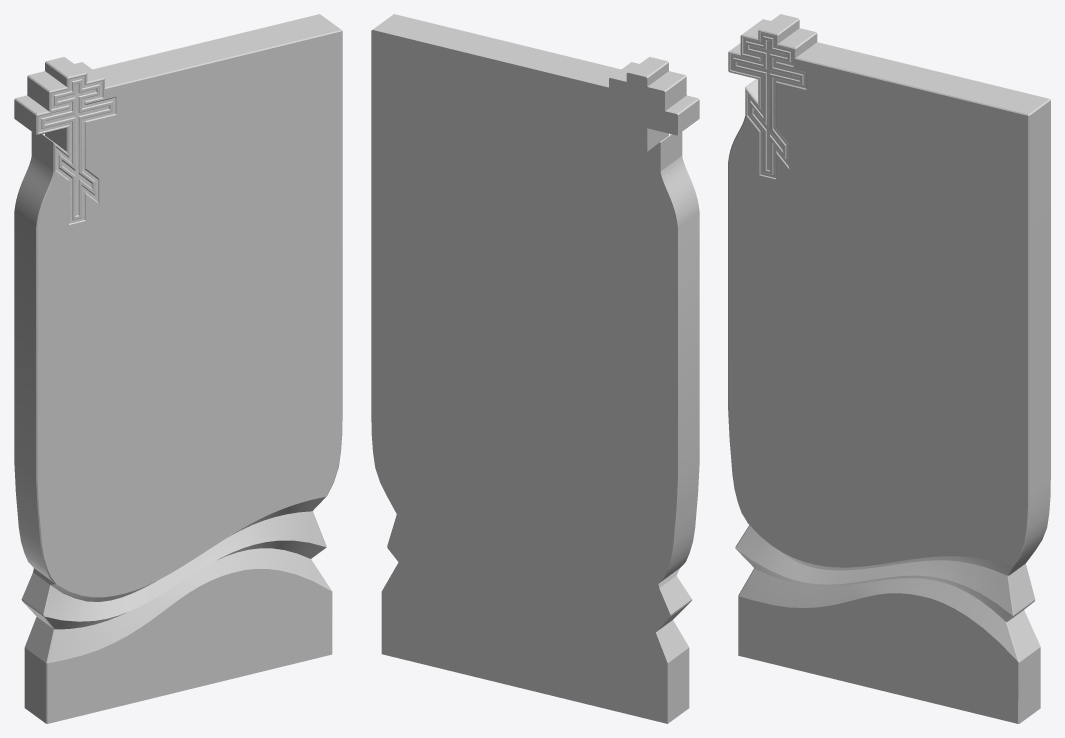
Rendered from cnd7314ef28c_tkf.glb.
3 renders of one model, left to right at view 1: azimuth 30°, elevation 25°; view 2: azimuth 150°, elevation 25°; view 3: azimuth 330°, elevation 25°, orthographic.
Visible parts, largest first — view 1: Pam-v-137-1, Pam-v-137-1_2_notexture; view 2: Pam-v-137-1; view 3: Pam-v-137-1, Pam-v-137-1_2_notexture.
Part boxes in pixels (<box>): Pam-v-137-1: <box>14,14,342,723</box>; Pam-v-137-1_2_notexture: <box>38,75,115,223</box>; Pam-v-137-1: <box>371,14,699,723</box>; Pam-v-137-1: <box>728,14,1050,723</box>; Pam-v-137-1_2_notexture: <box>730,32,805,177</box>.
Size of the model in its own units: 0.4 by 0.8 by 0.05.
Materials: 1 (1 with a texture image).
